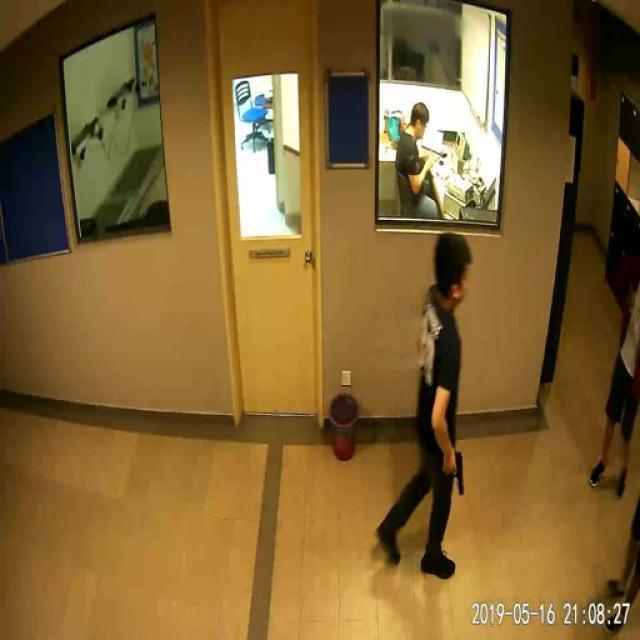Gun: (443, 438, 480, 499)
